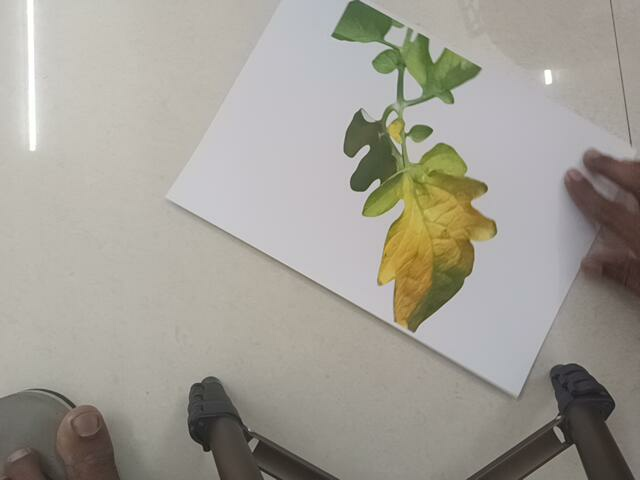Tomamto_Yellow_Disease: (332, 2, 505, 336)
